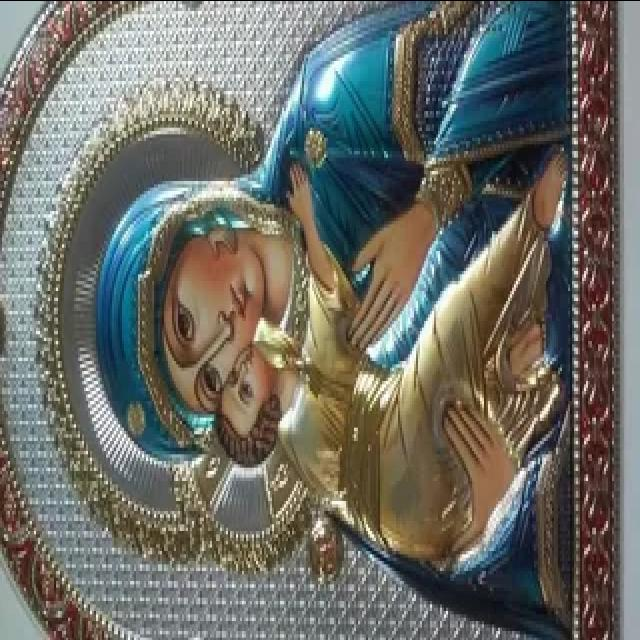mother of god: (90, 0, 574, 640)
